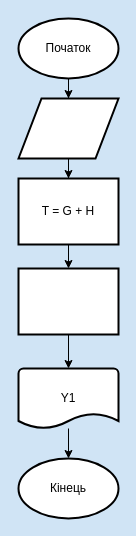
Image size: 136x536. Some labels were removed from this diagram. Each missing label, with the centre of its shape:
"Y1=(Z+Y) T /(Z+X) T/G*H" goes at point 68,301.
"Z, X, Y, G, H" goes at point 68,128.
